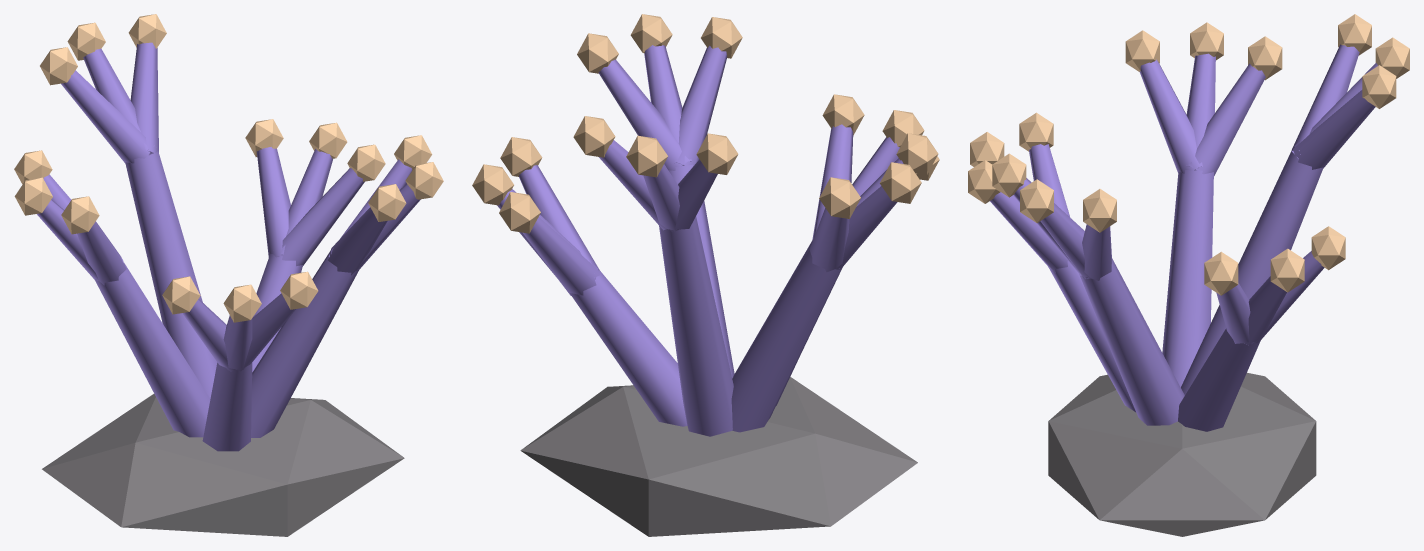
Rendered from ocean-scenery-2.glb.
The picture shows the model from 3 angles, left to right: view 1: azimuth 30°, elevation 25°; view 2: azimuth 150°, elevation 25°; view 3: azimuth 270°, elevation 25°; orthographic projection. The views are drawn at different scales.
Parts seen in each view (by area): view 1: Branching ocean coral; view 2: Branching ocean coral; view 3: Branching ocean coral.
Part boxes in pixels (x1=…): Branching ocean coral: x1=14, y1=14, x2=443, y2=536; Branching ocean coral: x1=472, y1=14, x2=939, y2=536; Branching ocean coral: x1=968, y1=14, x2=1409, y2=536.
Size of the model in its own units: 1.54 by 1.67 by 1.54.
